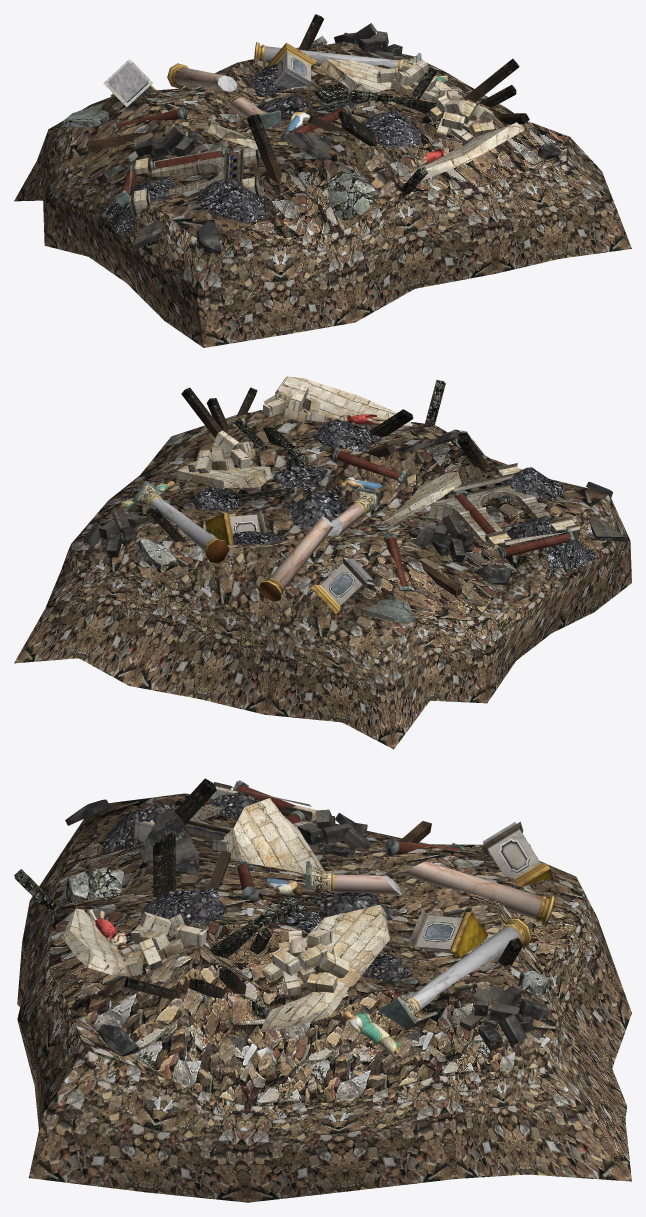
The model's file is rubble_rome_cc.glb.
3 renders of one model, top to bottom at view 1: azimuth 30°, elevation 25°; view 2: azimuth 150°, elevation 25°; view 3: azimuth 270°, elevation 25°, orthographic. The views are drawn at different scales.
Parts seen in each view (by area): view 1: rubble_rome_cc_part0, rubble_rome_cc_part2, rubble_rome_cc_part1; view 2: rubble_rome_cc_part0, rubble_rome_cc_part2, rubble_rome_cc_part1; view 3: rubble_rome_cc_part0, rubble_rome_cc_part2, rubble_rome_cc_part1.
Boxes of the visible parts, left/top/right/bottom form: rubble_rome_cc_part0: left=14, top=14, right=631, bottom=347; rubble_rome_cc_part2: left=103, top=42, right=524, bottom=217; rubble_rome_cc_part1: left=285, top=75, right=453, bottom=168; rubble_rome_cc_part0: left=14, top=380, right=631, bottom=749; rubble_rome_cc_part2: left=132, top=376, right=580, bottom=614; rubble_rome_cc_part1: left=120, top=412, right=388, bottom=507; rubble_rome_cc_part0: left=14, top=778, right=631, bottom=1202; rubble_rome_cc_part2: left=61, top=780, right=555, bottom=1031; rubble_rome_cc_part1: left=88, top=878, right=401, bottom=1055.
Size of the model in its own units: 7.42 by 2.74 by 6.63.
3 materials, 3 textured.
